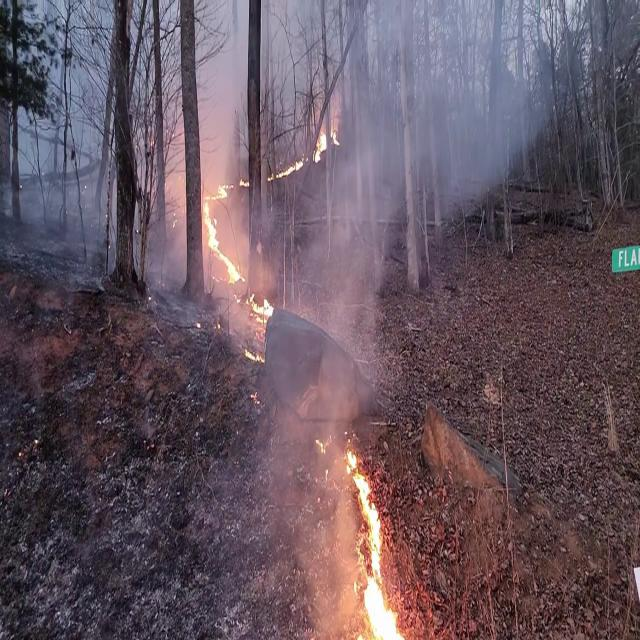Fire: (340, 442, 404, 640), (200, 178, 244, 288), (283, 119, 341, 178), (245, 281, 277, 326)
Smoke: (327, 0, 563, 236), (280, 107, 416, 412)
